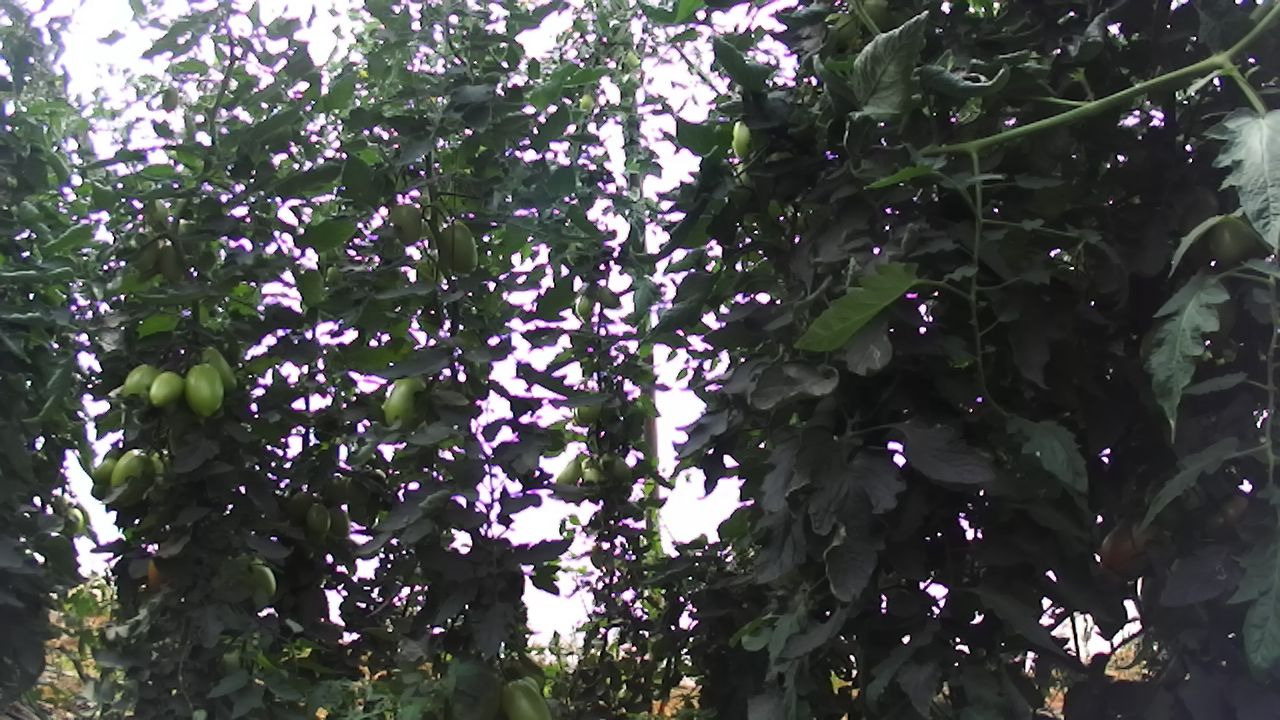tomato: (106, 446, 158, 510), (383, 369, 426, 432), (183, 360, 227, 420), (195, 341, 239, 398), (437, 221, 481, 277), (499, 676, 555, 720), (384, 199, 427, 249), (119, 361, 164, 407), (145, 370, 186, 411), (301, 497, 335, 538)
